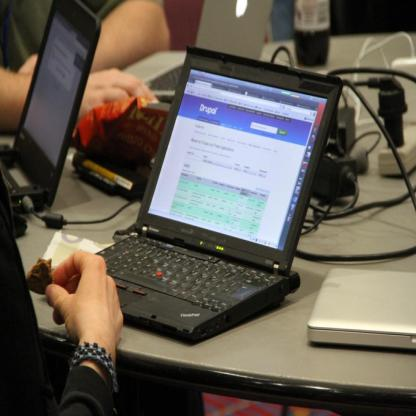board: (66, 47, 338, 358), (0, 0, 103, 217), (121, 1, 274, 102), (293, 0, 331, 66)
